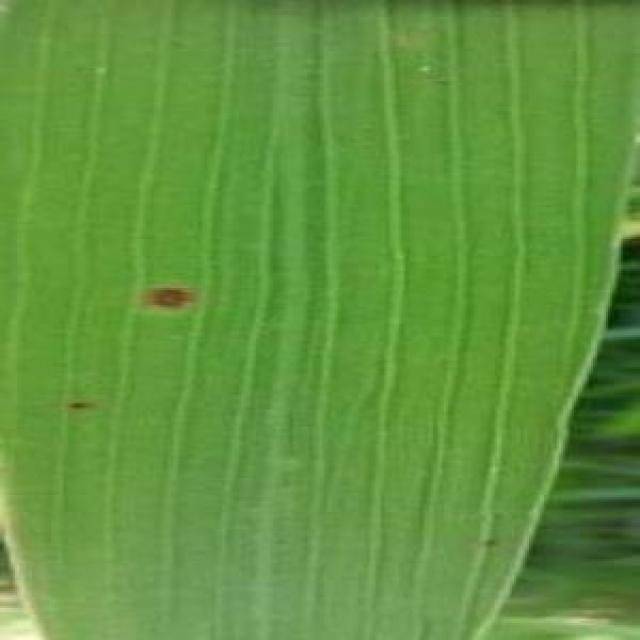Brown_Spot: (135, 276, 203, 326)
